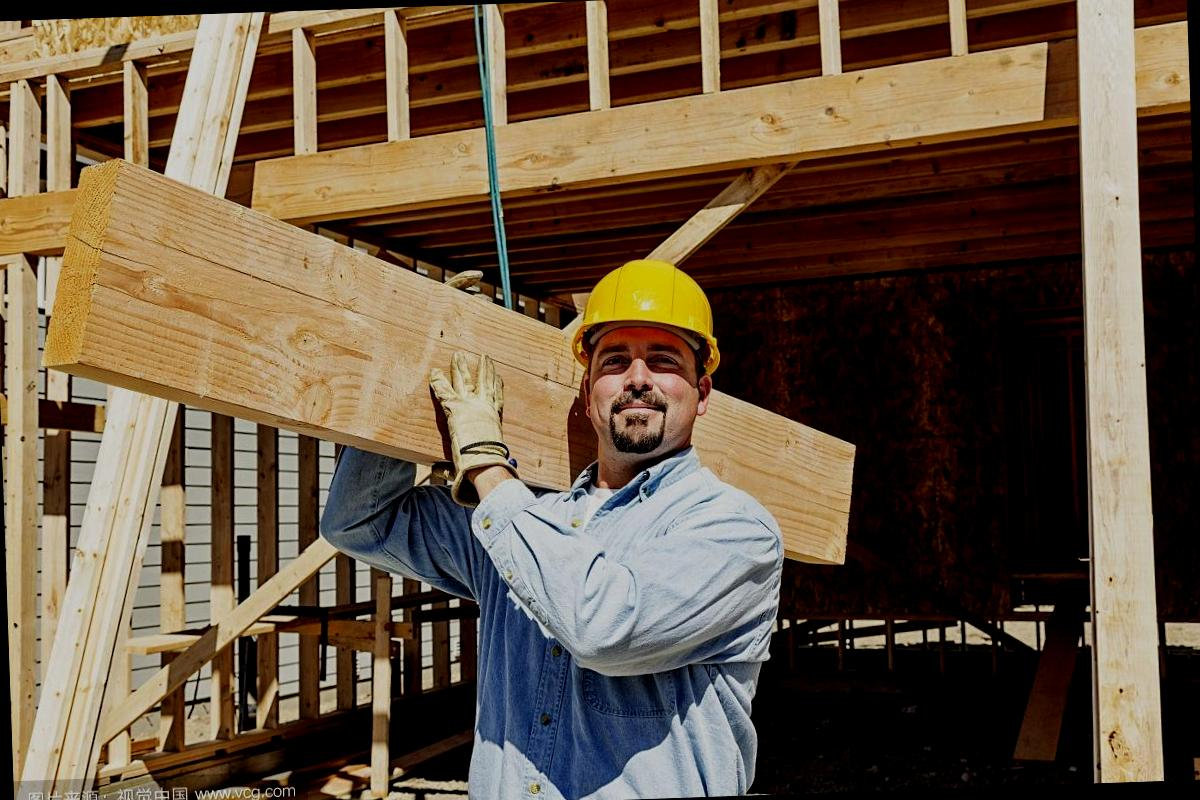helmet: (562, 258, 732, 384)
no_vest: (480, 441, 789, 800)
person: (384, 247, 803, 800)
